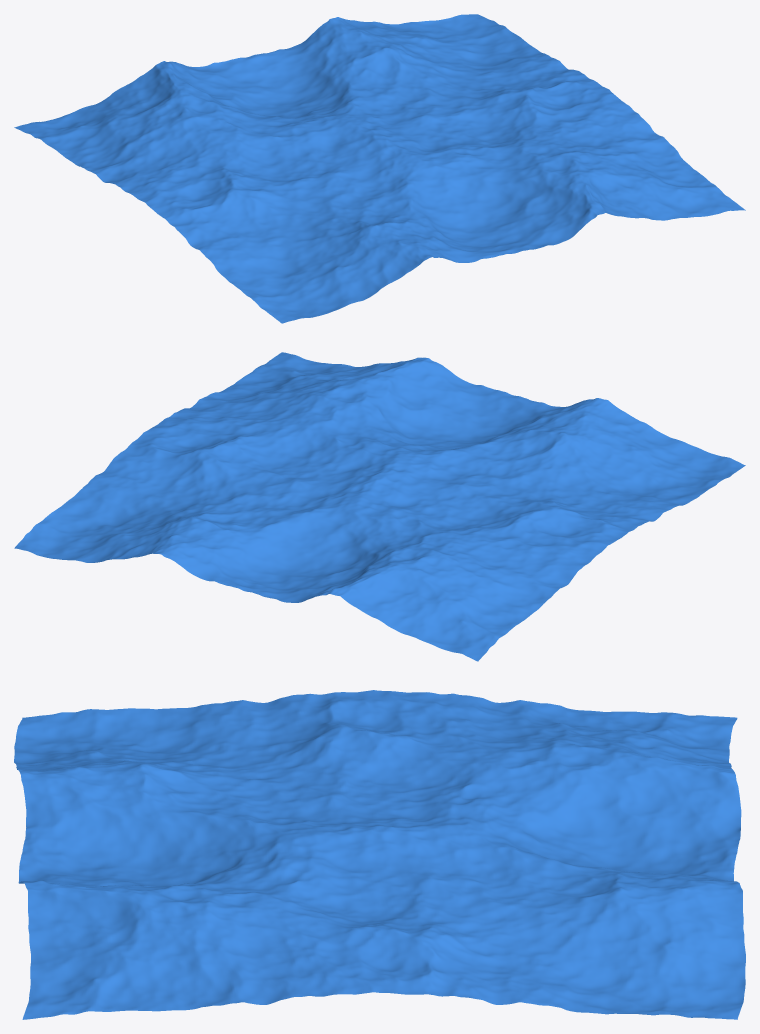
Rendered from try_2.glb.
The picture shows the model from 3 angles, top to bottom: view 1: azimuth 30°, elevation 25°; view 2: azimuth 150°, elevation 25°; view 3: azimuth 270°, elevation 25°; orthographic projection. The views are drawn at different scales.
Visible parts, largest first — view 1: Plane; view 2: Plane; view 3: Plane.
Boxes of the visible parts, x1,y1,x2,y2 form: Plane: (14, 14, 745, 323); Plane: (14, 352, 745, 661); Plane: (14, 690, 745, 1019).
Size of the model in its own units: 9.48 by 0.7007 by 9.59.
